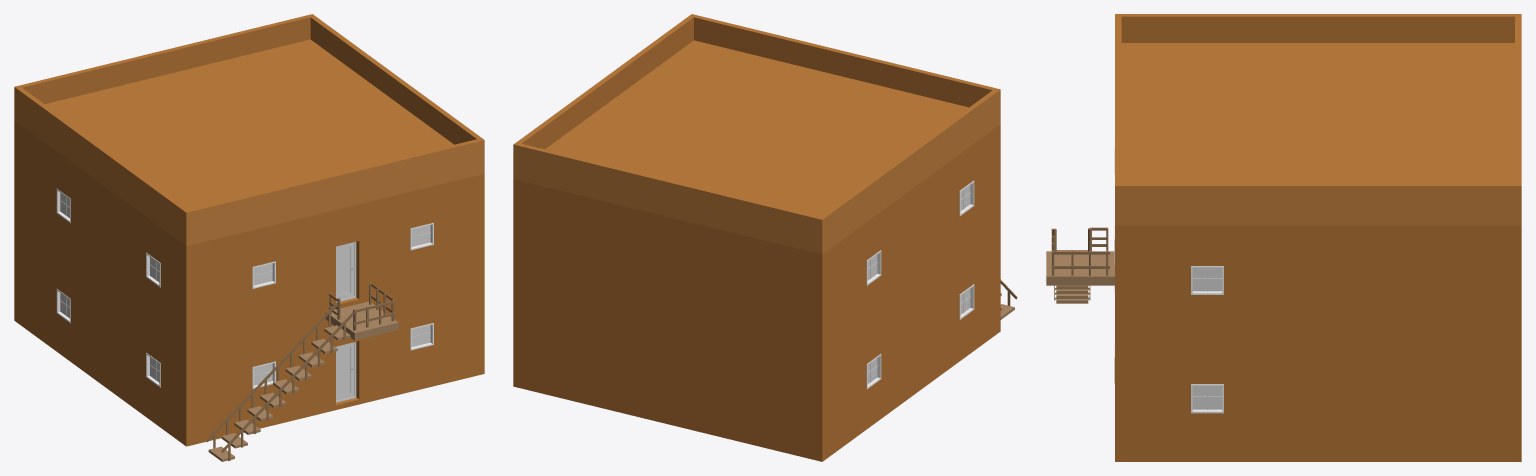
Rendered from House_2.fbx.
The picture shows the model from 3 angles, left to right: view 1: azimuth 30°, elevation 25°; view 2: azimuth 150°, elevation 25°; view 3: azimuth 270°, elevation 25°; orthographic projection. The views are drawn at different scales.
Visible parts, largest first — view 1: House_2_1_Body, House_2_Stair, House_2_Door.004, House_2_Door.009; view 2: House_2_1_Body; view 3: House_2_1_Body, House_2_Stair, House_2_Window.005, House_2_Window.004.
Boxes of the visible parts, bbox=[...] form: House_2_1_Body: bbox=[14, 14, 484, 446]; House_2_Stair: bbox=[206, 282, 398, 461]; House_2_Door.004: bbox=[336, 342, 356, 402]; House_2_Door.009: bbox=[336, 241, 356, 302]; House_2_1_Body: bbox=[513, 14, 1000, 461]; House_2_1_Body: bbox=[1114, 14, 1521, 461]; House_2_Stair: bbox=[1046, 227, 1114, 303]; House_2_Window.005: bbox=[1192, 267, 1222, 291]; House_2_Window.004: bbox=[1192, 386, 1222, 409].
Size of the model in its own units: 1283 by 957 by 1494.
